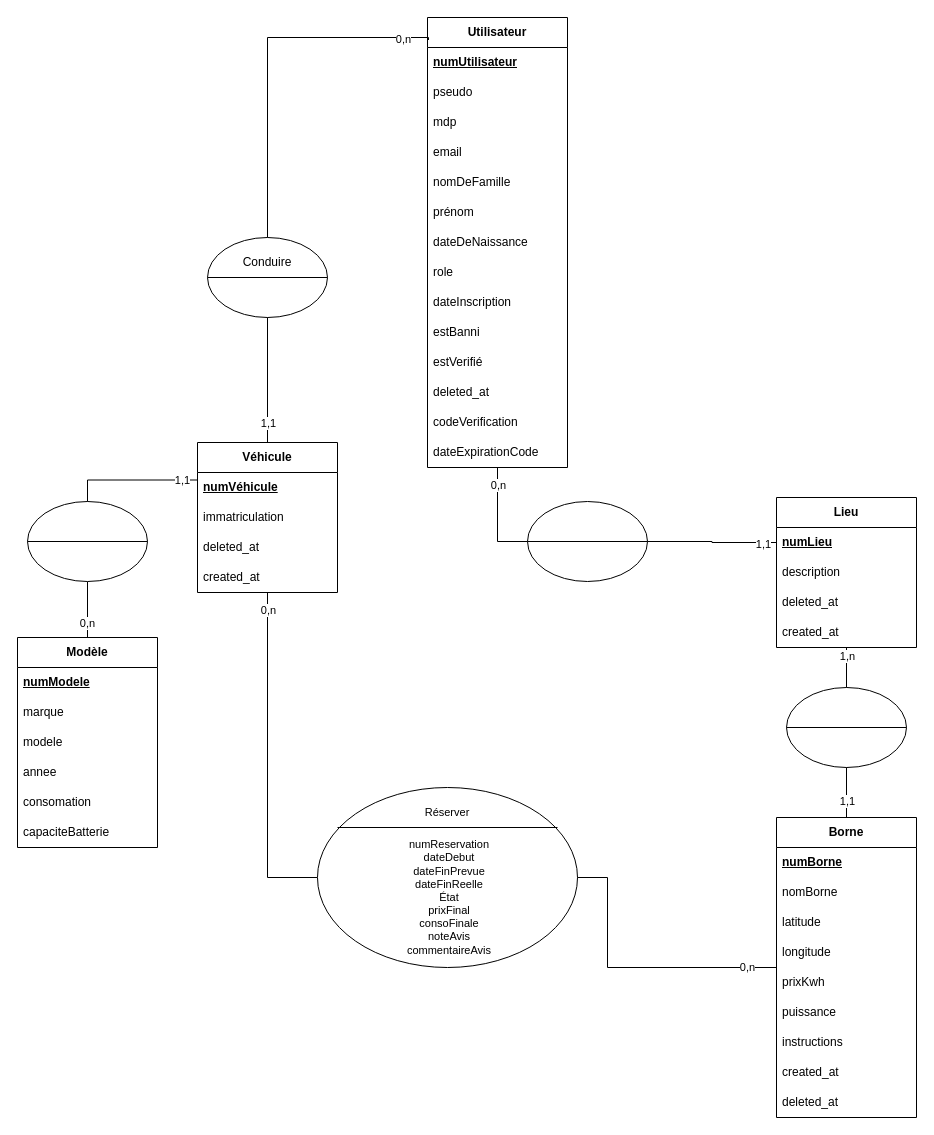
The diagram is 934 pixels wide and 1135 high, and some of its shapes have lost their labels. The centre of each missing label's shape, as x and y in pixels:
Appartenir: the point at 587,541
Contenir: the point at 846,727
Définir: the point at 87,541
